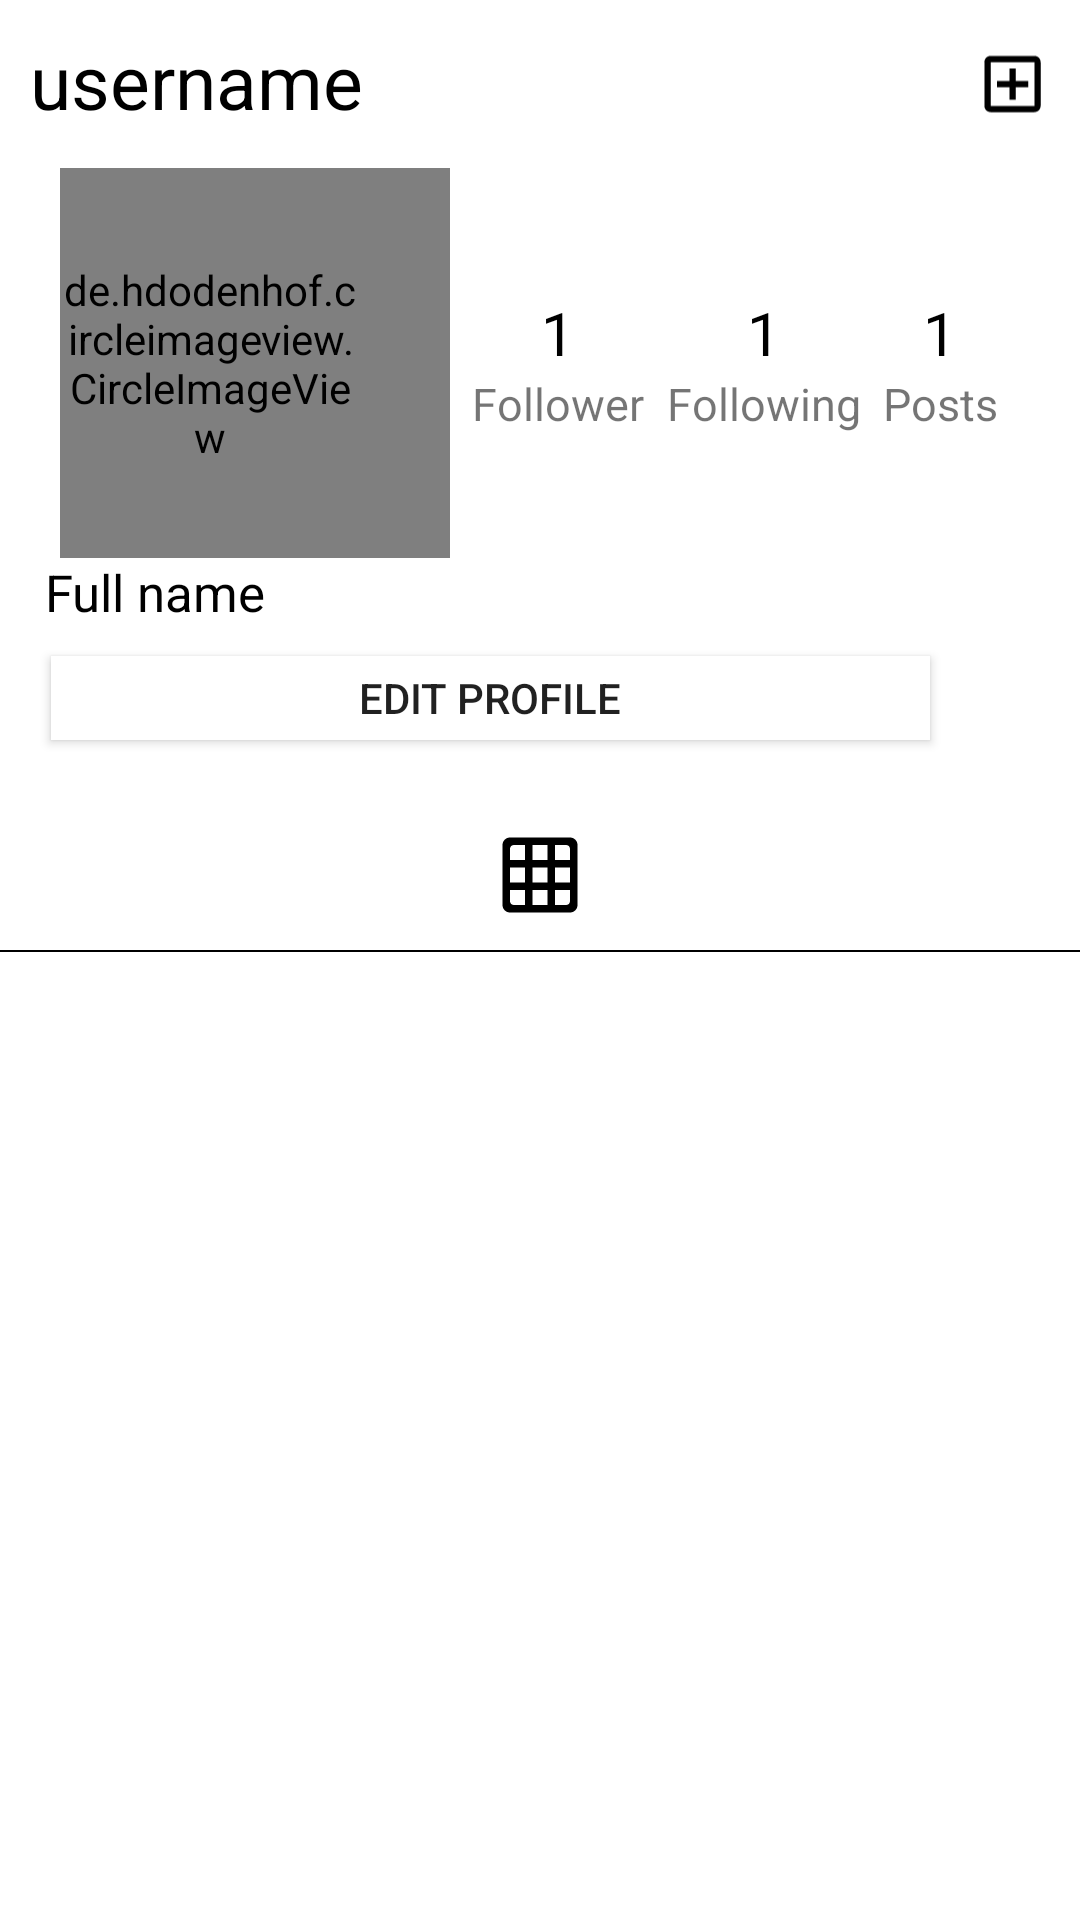

Screen size 1080w x 1920h. Icon name, then its center in pixels as (x=x, y=y):
add box: (x=1012, y=84)
grid on: (x=540, y=875)
